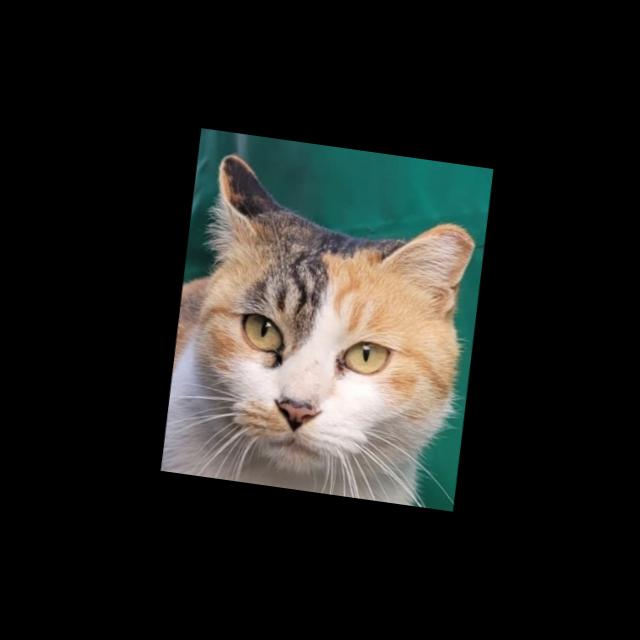animals: (171, 149, 490, 503)
